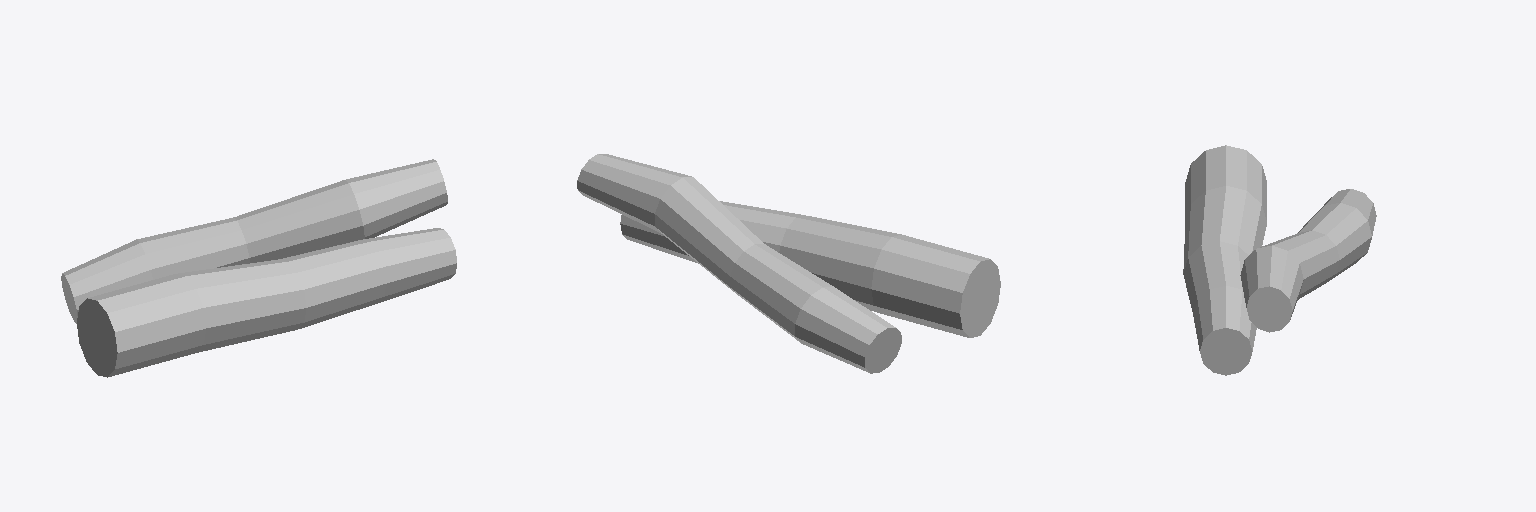
The model's file is PEYEUM.obj.
3 renders of one model, left to right at view 1: azimuth 30°, elevation 25°; view 2: azimuth 150°, elevation 25°; view 3: azimuth 270°, elevation 25°, orthographic.
Parts seen in each view (by area): view 1: Cylinder004, Cylinder006; view 2: Cylinder006, Cylinder004; view 3: Cylinder004, Cylinder006.
Part boxes in pixels (x1,y1,x2,y2): Cylinder004: (77, 228, 456, 377); Cylinder006: (61, 159, 447, 323); Cylinder006: (577, 154, 901, 373); Cylinder004: (620, 201, 1000, 337); Cylinder004: (1183, 145, 1266, 375); Cylinder006: (1240, 189, 1376, 332).
Size of the model in its own units: 52.3 by 14.9 by 23.59.